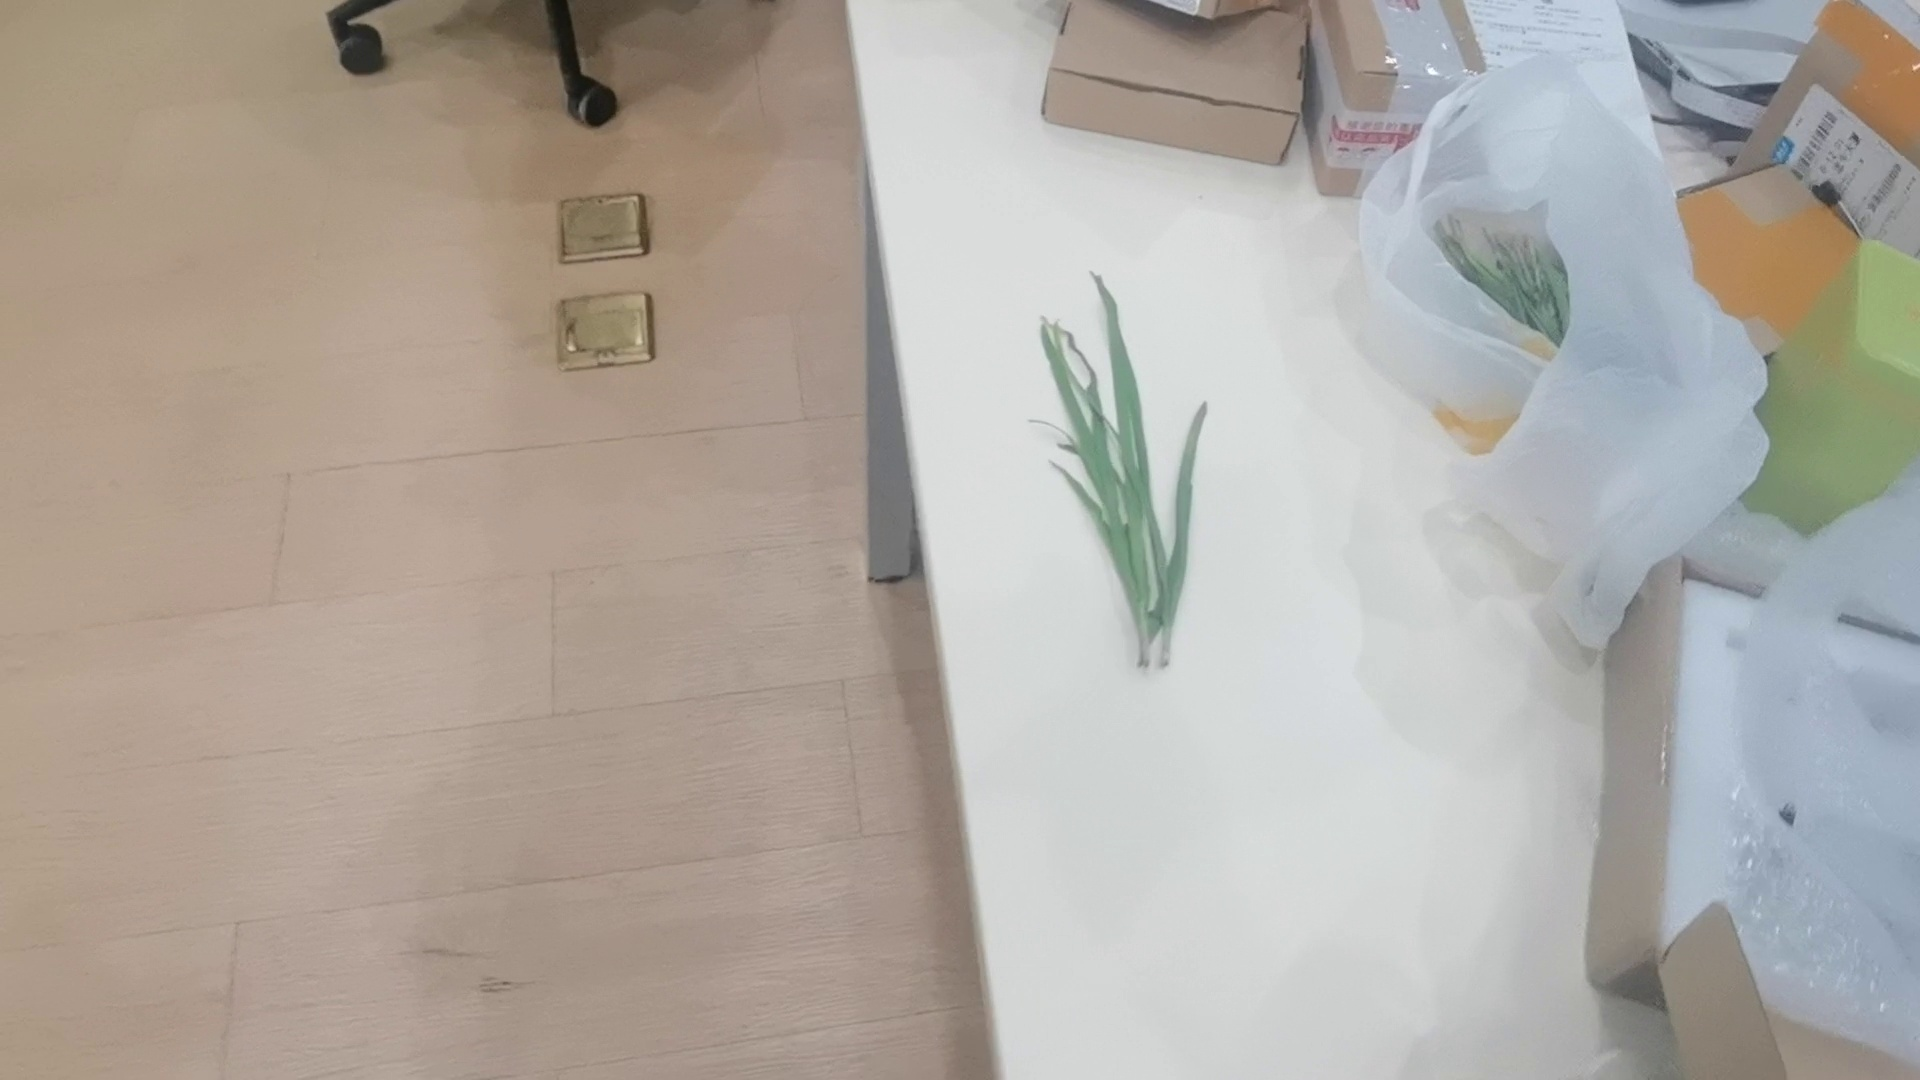chives: (1019, 258, 1241, 694)
